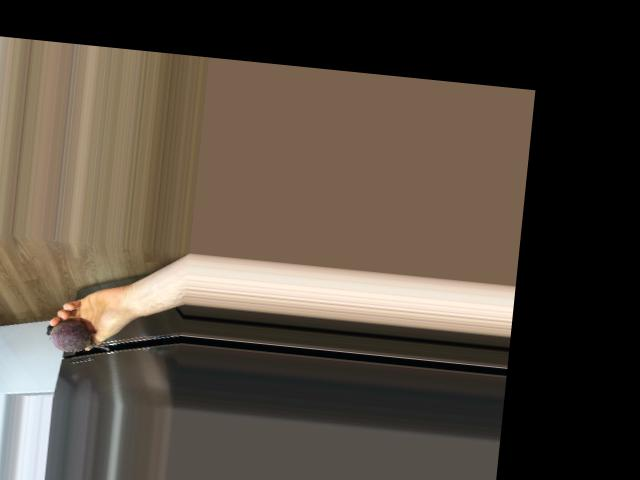beet: (44, 318, 110, 355)
